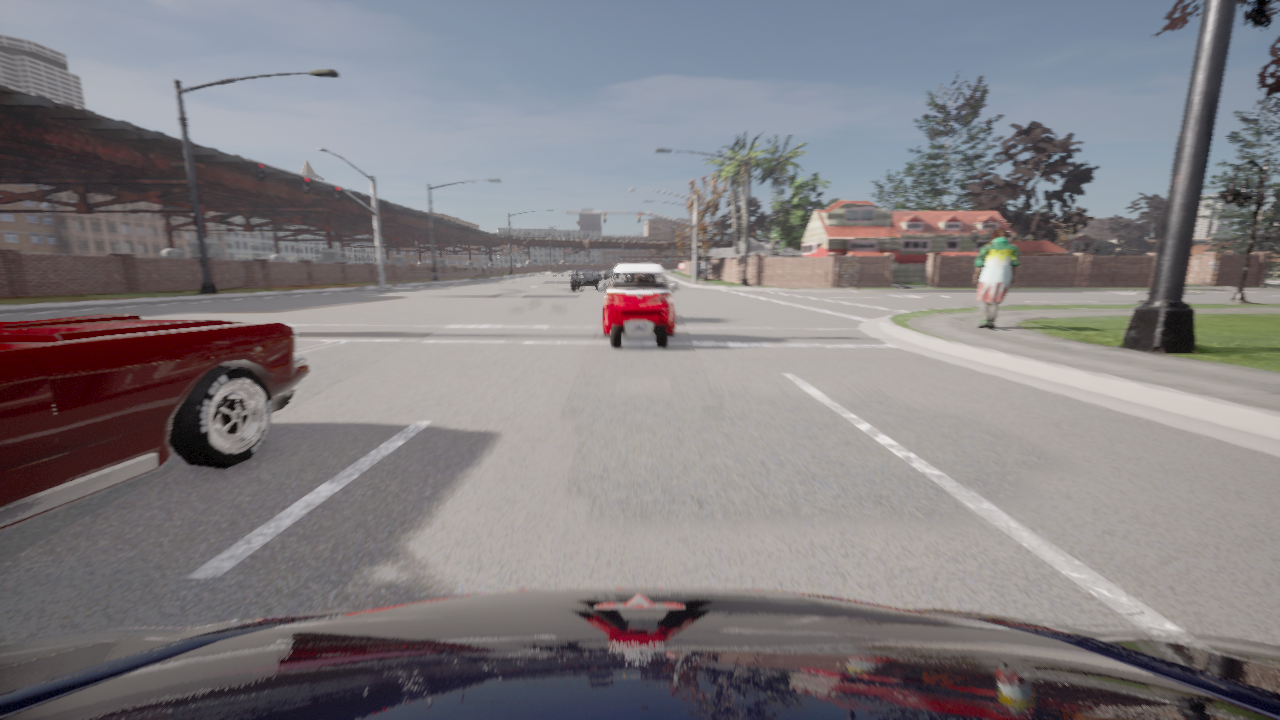cyclist: (0, 588, 1279, 719), (0, 314, 310, 530), (599, 264, 677, 347), (571, 268, 602, 290), (604, 269, 614, 278)
pedestrian: (974, 229, 1019, 329)
